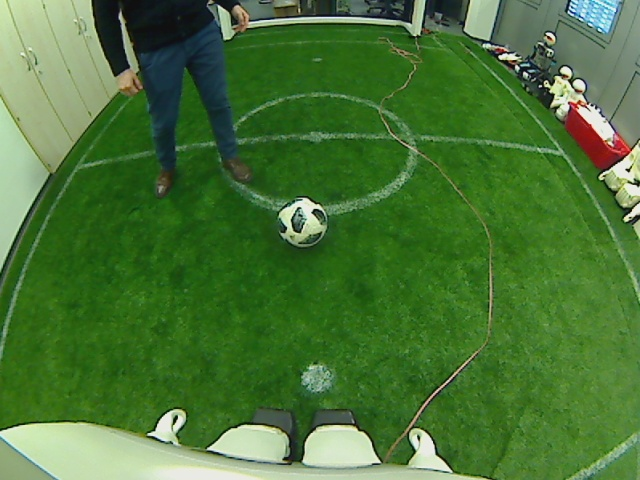ball: (274, 195, 328, 247)
